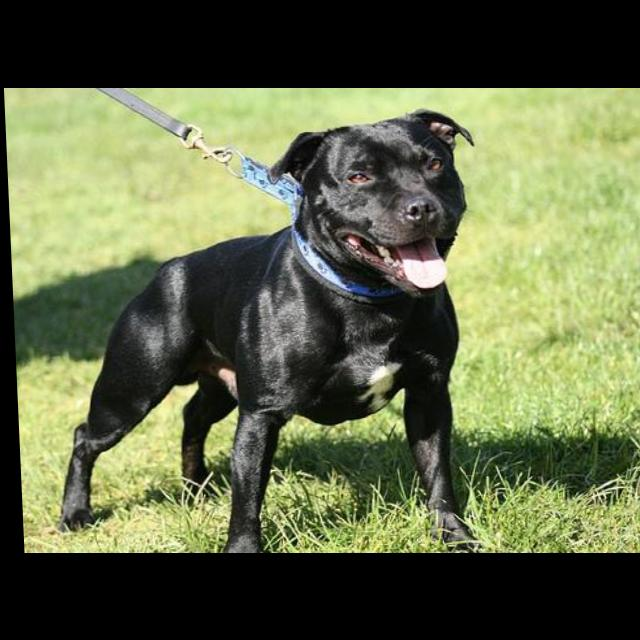staffford: (39, 107, 490, 554)
